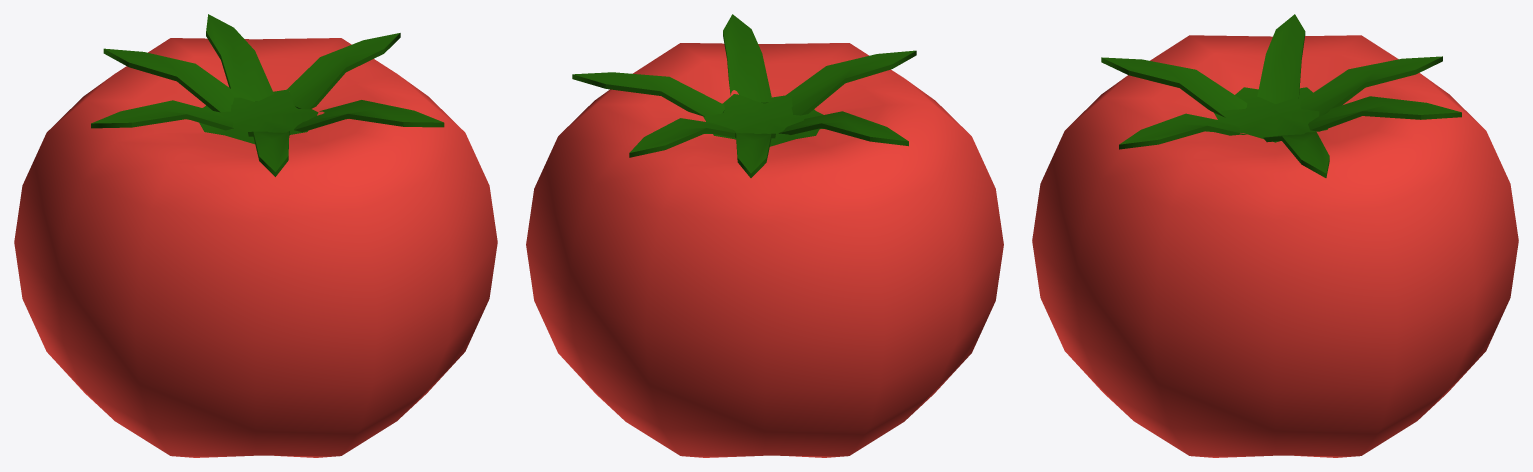
The model's file is tomato.fbx.
The picture shows the model from 3 angles, left to right: view 1: azimuth 30°, elevation 25°; view 2: azimuth 150°, elevation 25°; view 3: azimuth 270°, elevation 25°; orthographic projection.
Visible parts, largest first — view 1: Tomato; view 2: Tomato; view 3: Tomato.
Part boxes in pixels (x1,y1,x2,y2): Tomato: (14,14,497,457); Tomato: (526,14,1003,457); Tomato: (1032,14,1518,457).
Bounding box in the file's own units: 12.56 × 9.67 × 13.2.
